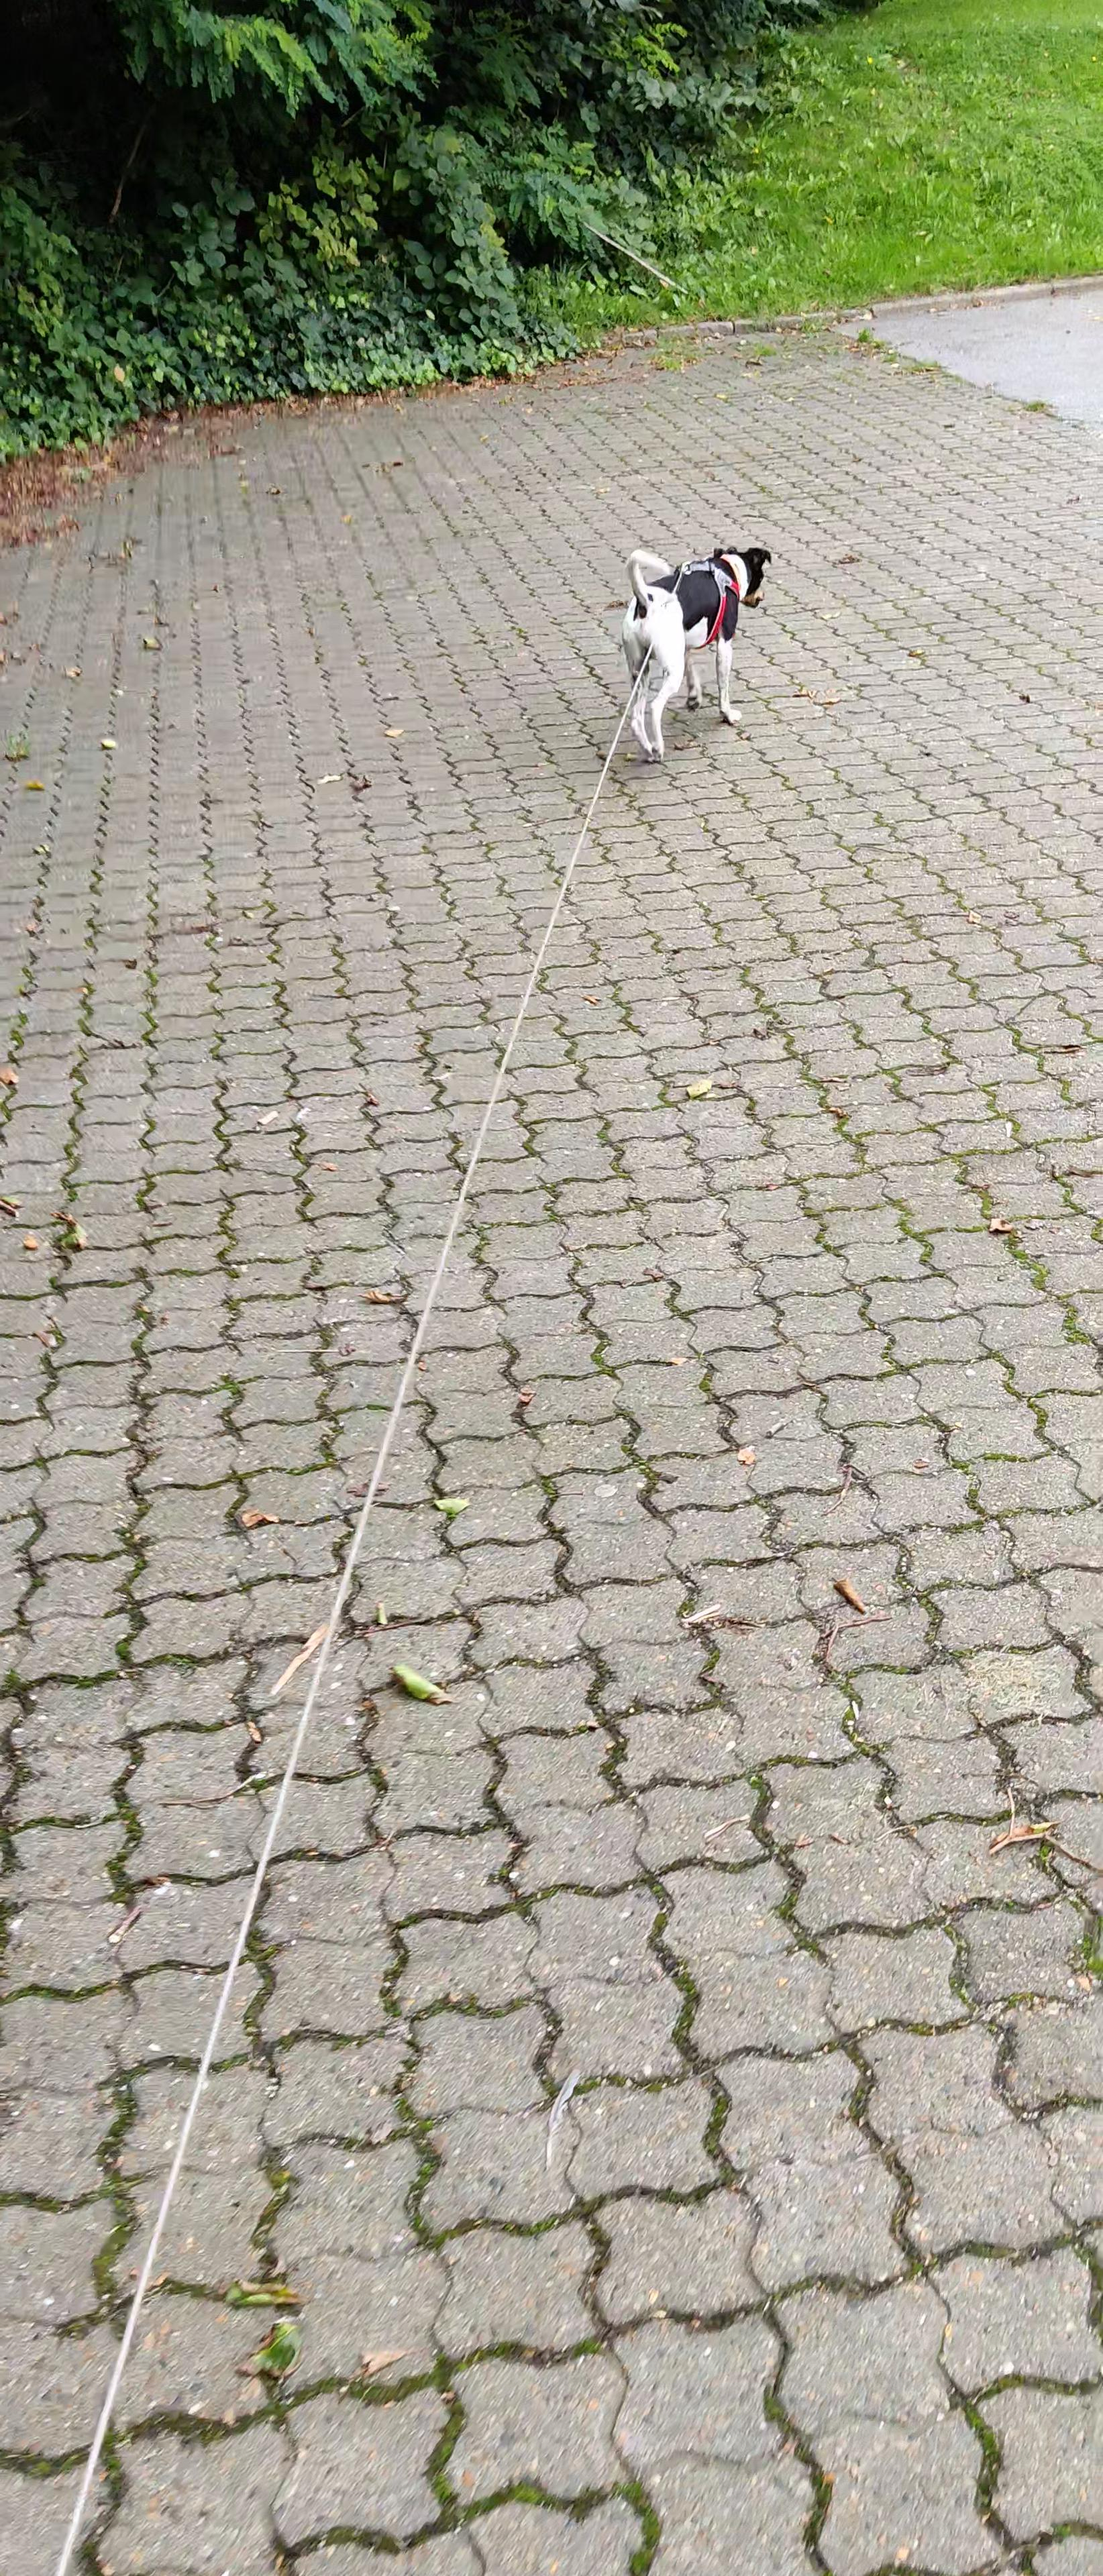Dog: (603, 529, 784, 774)
